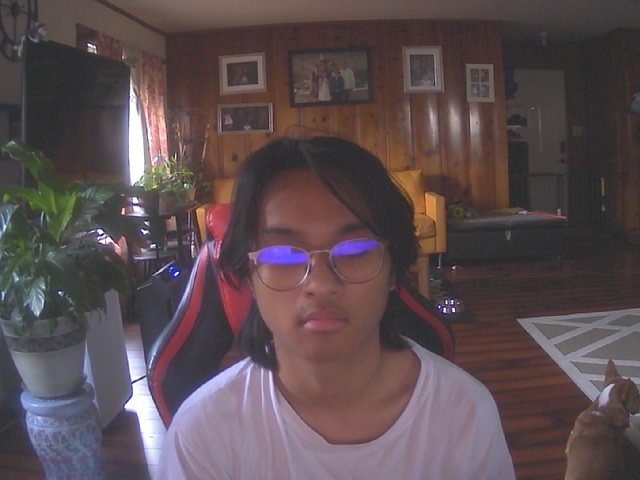neutral: (238, 140, 403, 361)
